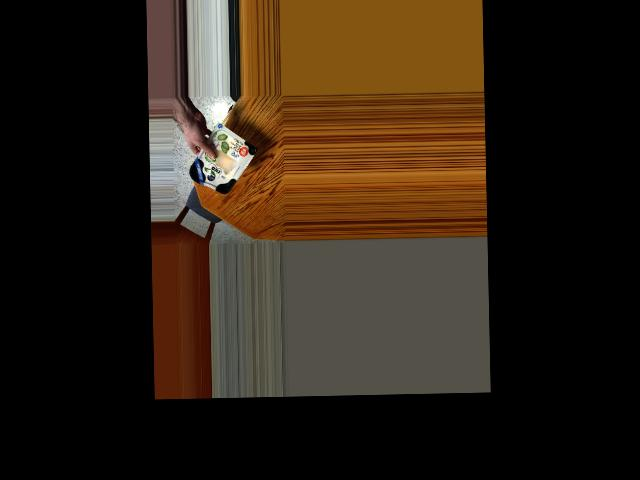cheese: (184, 133, 253, 192)
